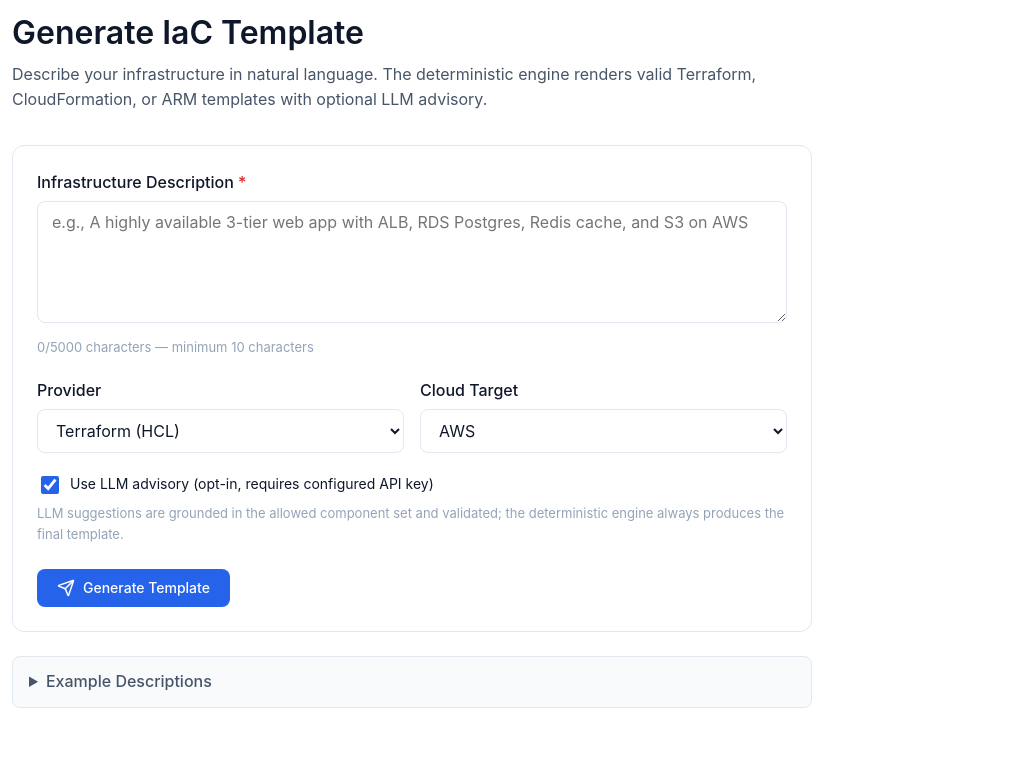
Test: GenerateForm › shows error for too short description
Replace the text in the text box labelled "Infrastructure Description *" with "short" at (412, 262), box [37,201,787,323]
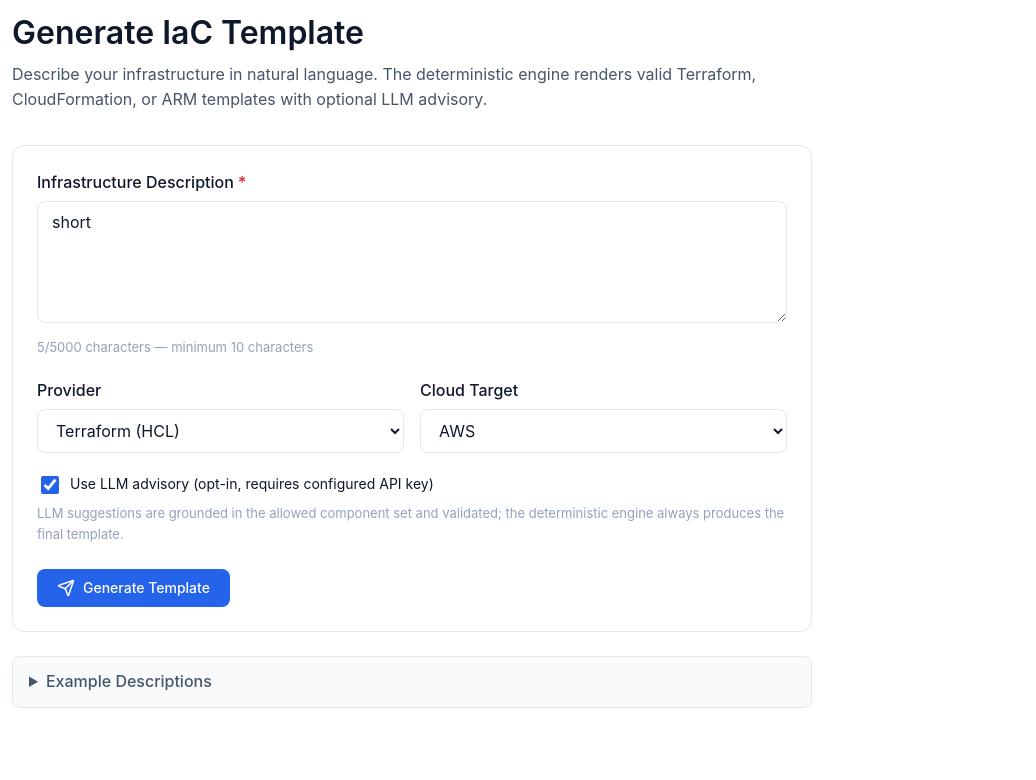
Click the button "Generate Template".
click(133, 588)  # box [37,569,230,607]
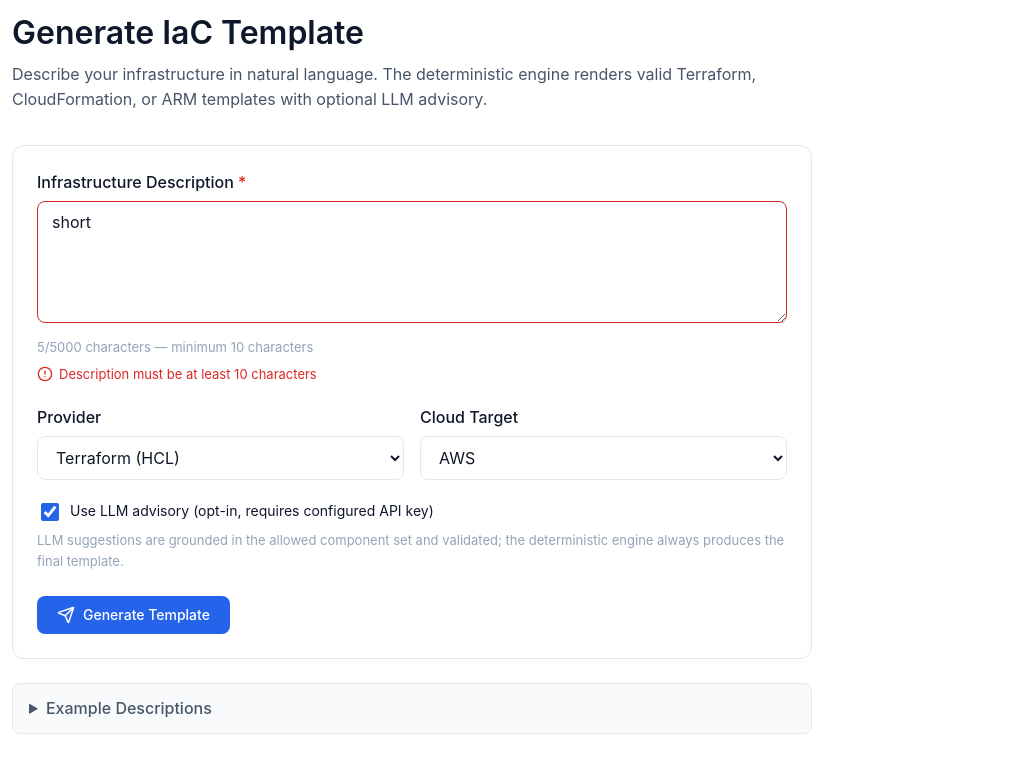
Expected: the text "Description must be at least 10 characters" is shown, [37,366,317,382]
